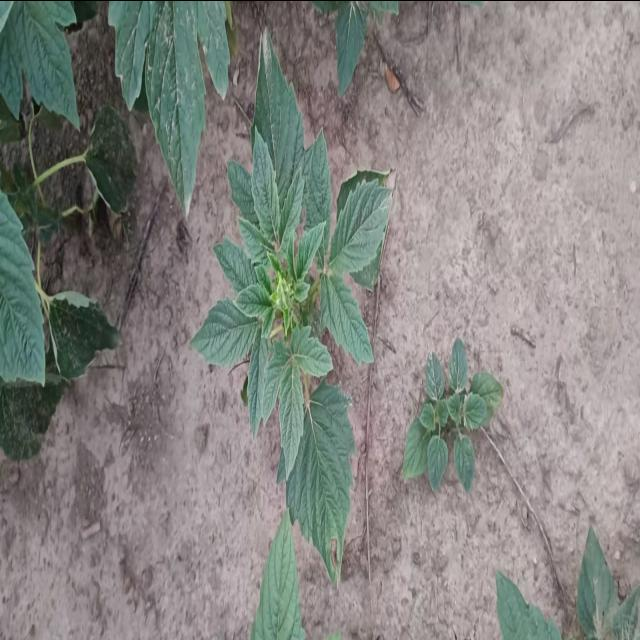plant: (191, 28, 391, 581)
